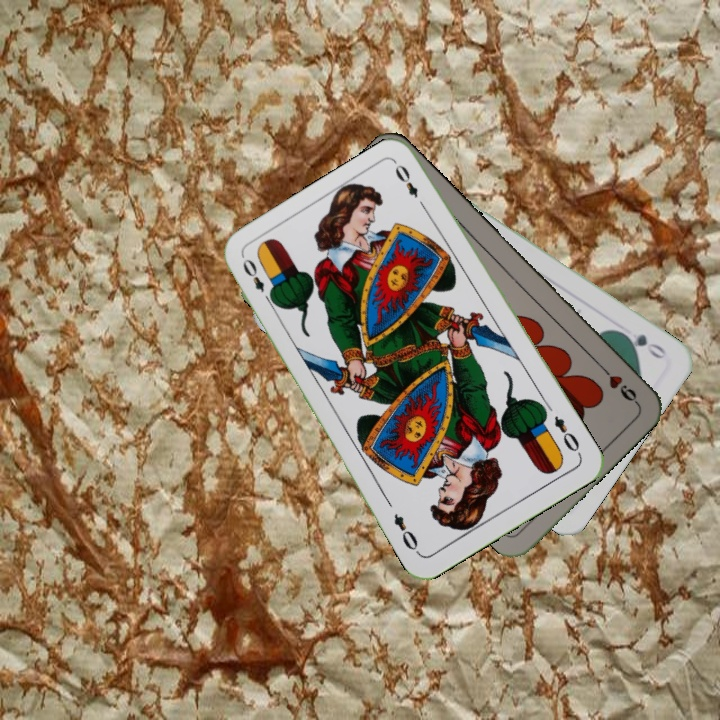EO: (238, 254, 277, 308), (550, 412, 584, 458)
GO: (616, 327, 670, 362)
H9: (595, 360, 640, 407)
